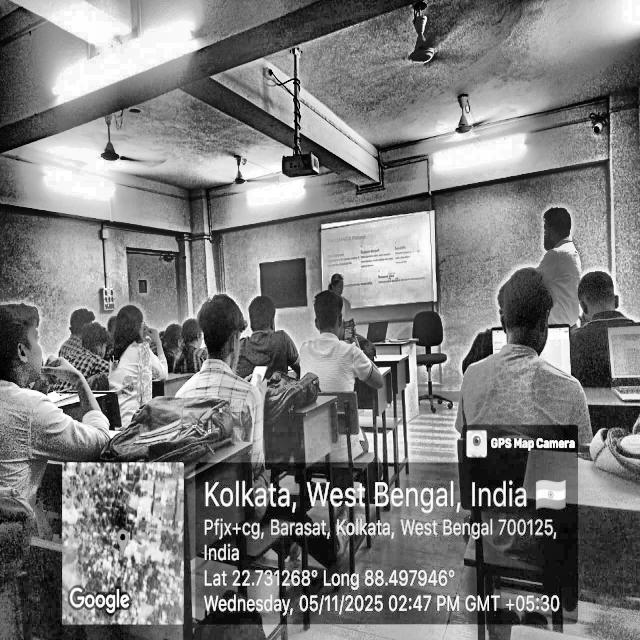Focus: (480, 255, 640, 486), (244, 266, 353, 420), (1, 315, 86, 448), (291, 274, 370, 390), (520, 187, 586, 297), (102, 291, 164, 374)
Not Focus: (153, 260, 269, 422), (52, 296, 119, 378)
